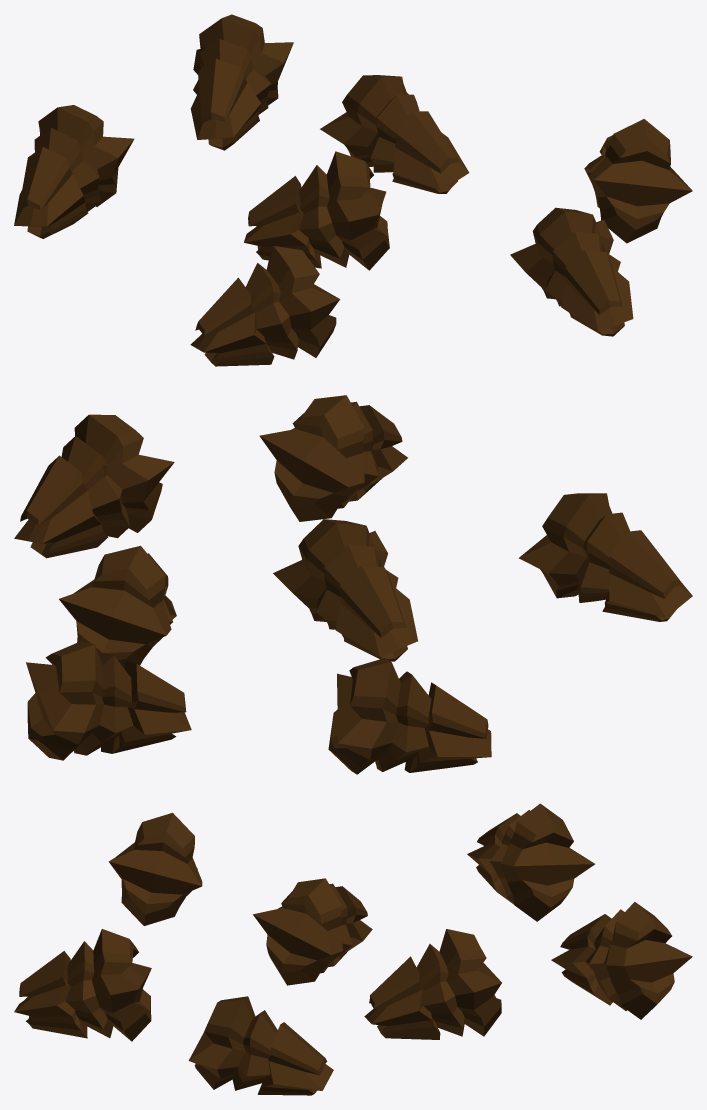
Rendered from Pinecones.fbx.
3 renders of one model, top to bottom at view 1: azimuth 30°, elevation 25°; view 2: azimuth 150°, elevation 25°; view 3: azimuth 270°, elevation 25°, orthographic. The views are drawn at different scales.
Parts seen in each view (by area): view 1: Cube; view 2: Cube; view 3: Cube.
Part boxes in pixels (box(x1,y1,x2,y2)): Cube: box(14, 14, 692, 366); Cube: box(14, 395, 692, 774); Cube: box(14, 803, 692, 1095).
Size of the model in its own units: 90.71 by 17.88 by 109.
